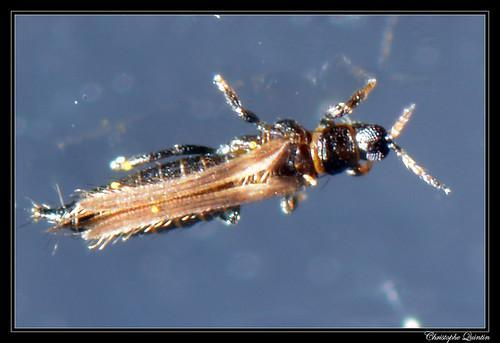tiny_pests: (11, 40, 500, 277)
